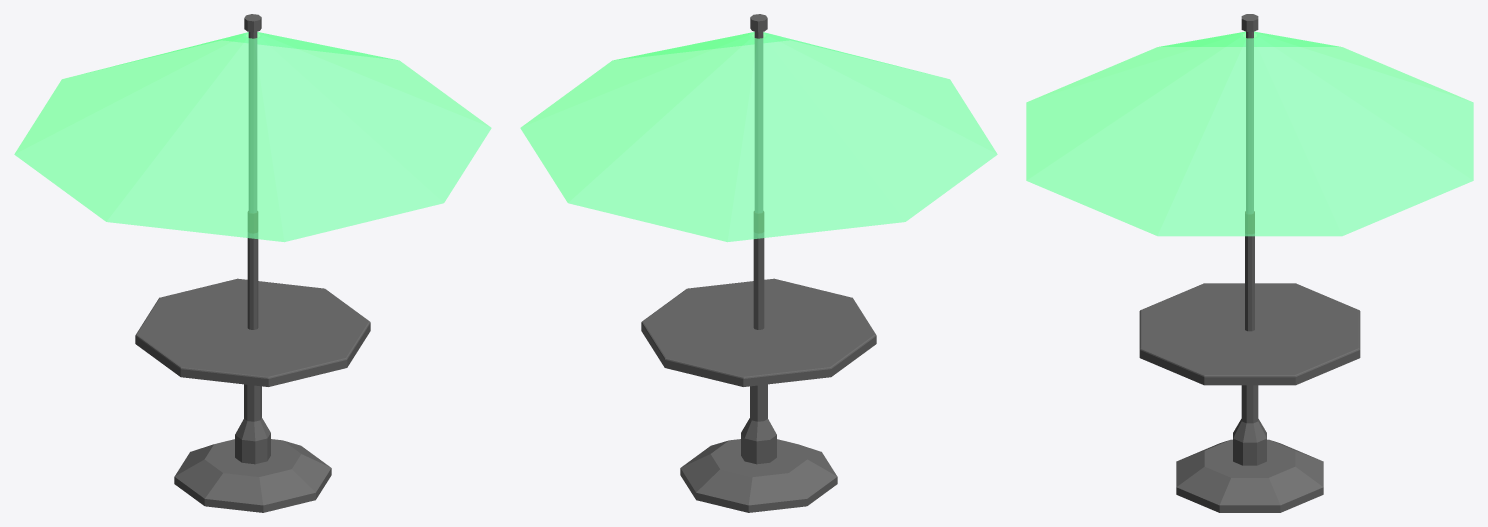
File: umbrellaTable_Geo.fbx
3 views of the same model, side by side, from view 1: azimuth 30°, elevation 25°; view 2: azimuth 150°, elevation 25°; view 3: azimuth 270°, elevation 25° (orthographic).
Visible parts, largest first — view 1: digitalBar.001; view 2: digitalBar.001; view 3: digitalBar.001.
Part boxes in pixels (x1,y1,x2,y2): digitalBar.001: [14, 14, 491, 512]; digitalBar.001: [520, 14, 997, 512]; digitalBar.001: [1026, 14, 1473, 512].
Bounding box in the file's own units: 207 × 237 × 207.
